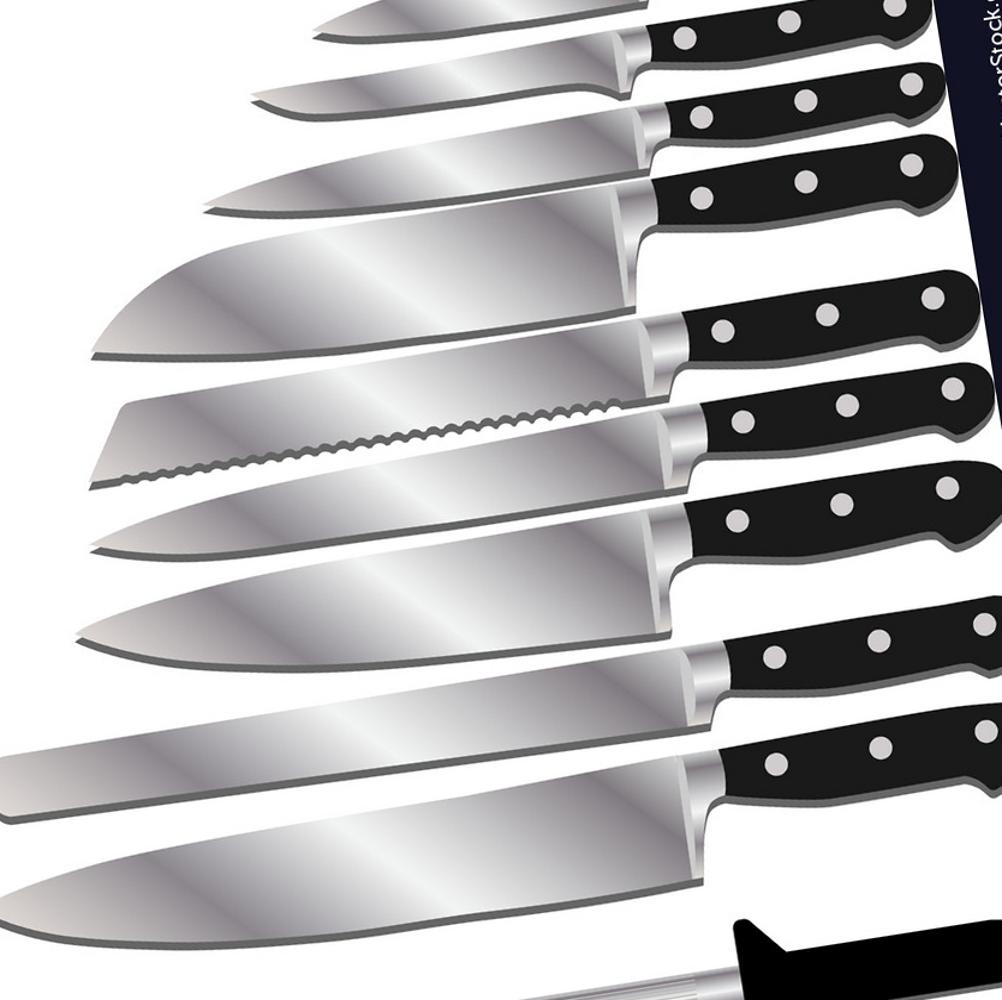knife: (7, 701, 1002, 949), (81, 460, 1002, 669), (96, 366, 1002, 560), (206, 57, 946, 209), (259, 1, 931, 118)
